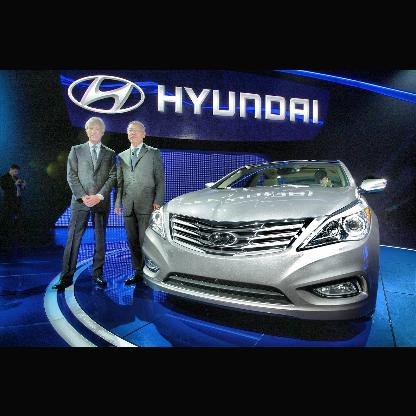Hyundai Azera Sedan 2012: (143, 157, 390, 324)
